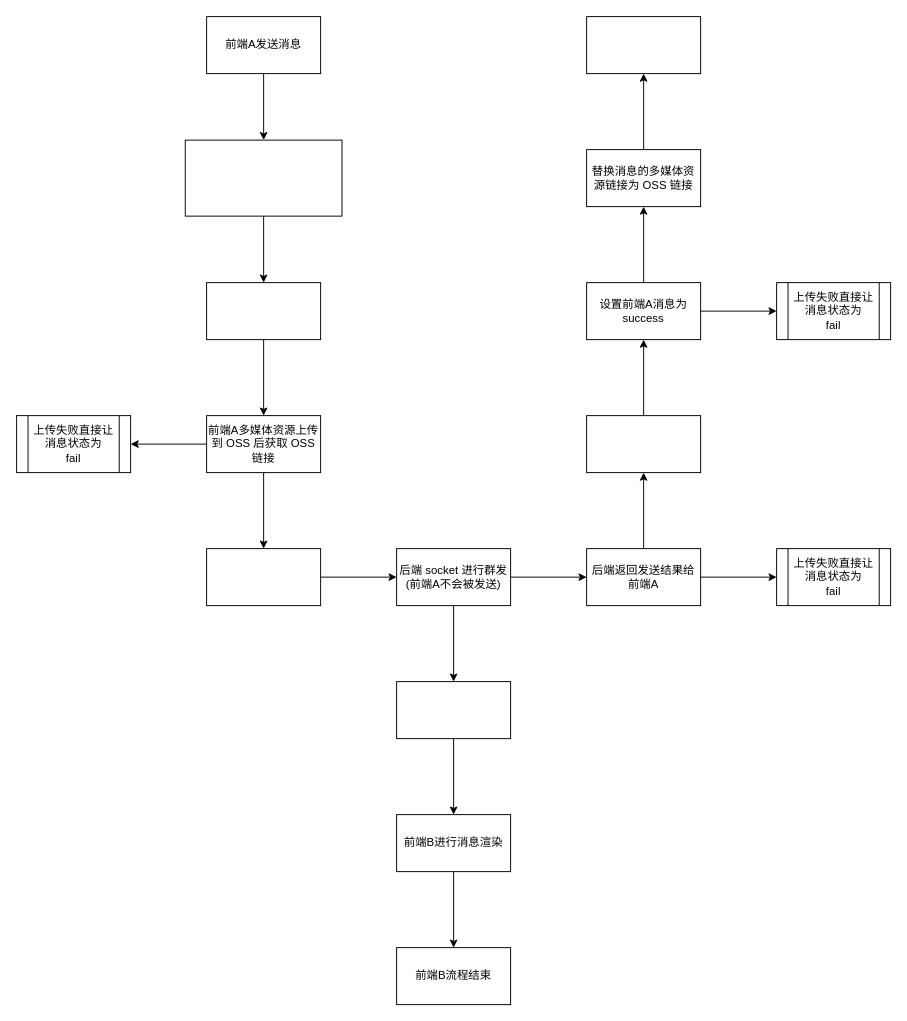
Some shapes in this 907 by 1021 pixel diagram are drawn without their labels. The box of each missing label's shape, as (x1, y1, x2, y2) in pixels:
前端A先把消息渲染出来(图片等多媒体资源都是本地链接): (184, 139, 342, 216)
前端A根据返回结果进行消息处理: (586, 415, 701, 473)
前端A流程结束: (586, 16, 701, 74)
前端A组合消息后发送给后端: (206, 548, 321, 606)
前端B接收到群发: (396, 681, 511, 739)
设置前端A消息状态为 pending: (206, 282, 321, 340)
